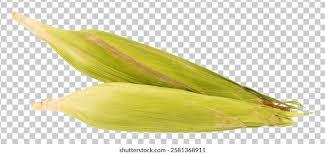non-mango: (10, 7, 309, 132)
